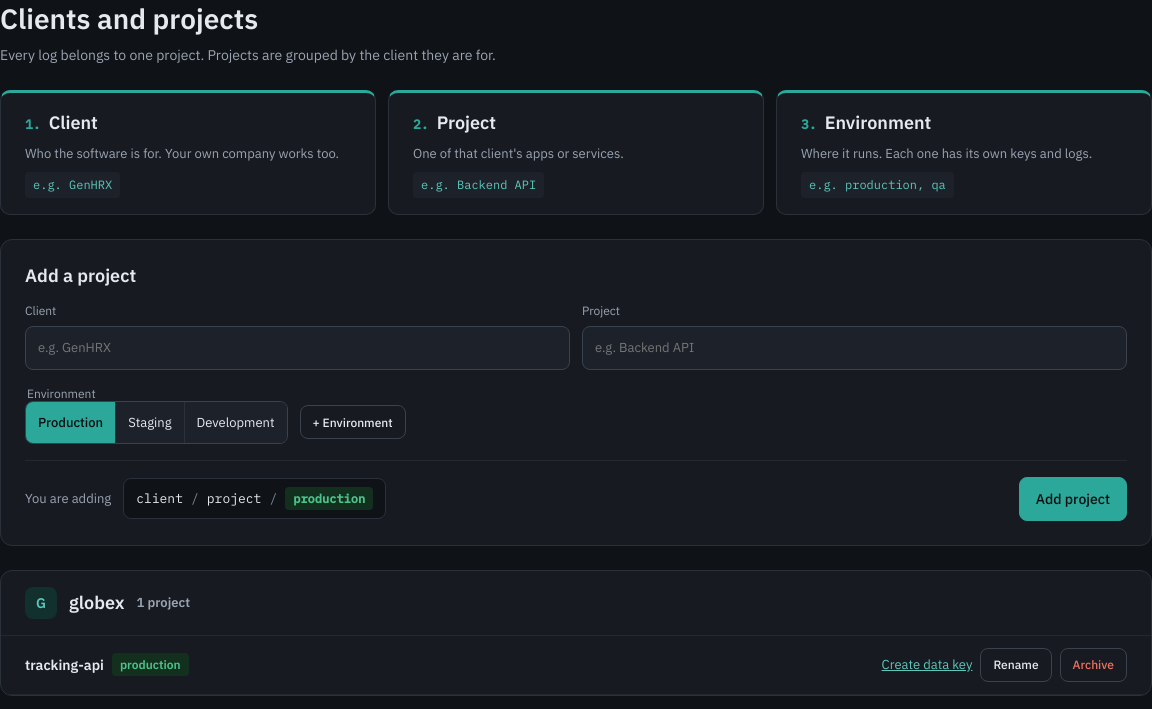
Test: Project changes › adds a new environment, warns about look-alikes and selects it
Click the button "+ Environment" at (353, 422), box [300,405,406,439]
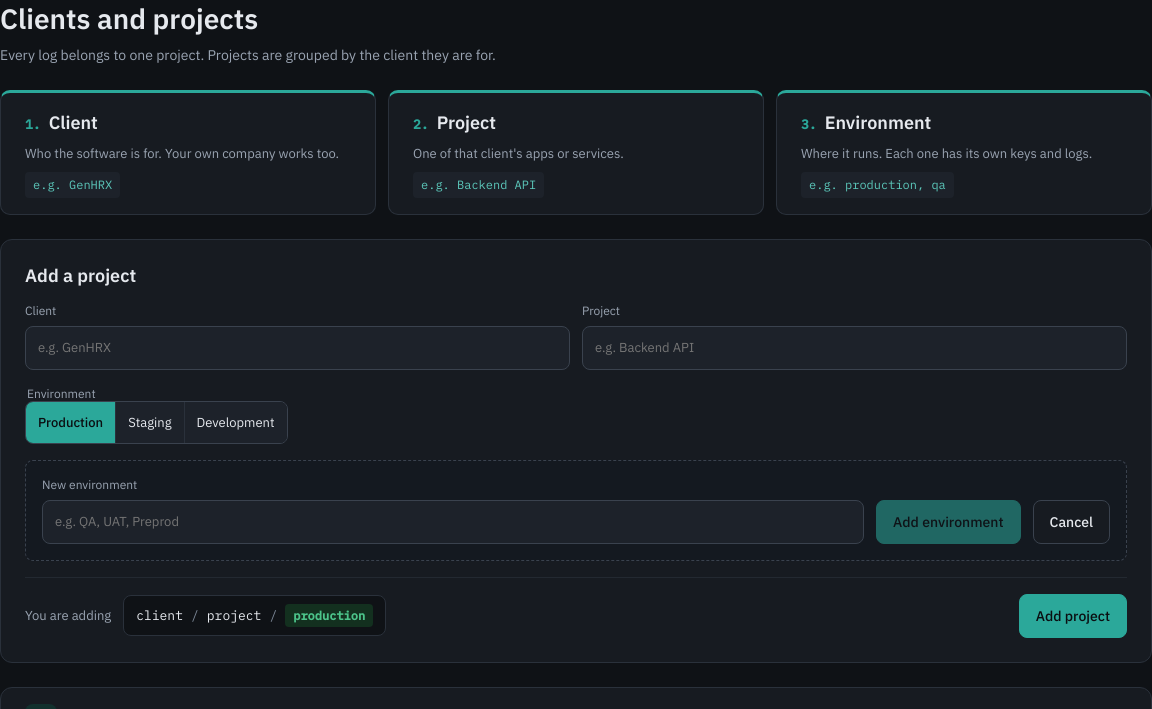
Type "Prod" into the field labelled "New environment" at (453, 522), box [42,500,864,544]
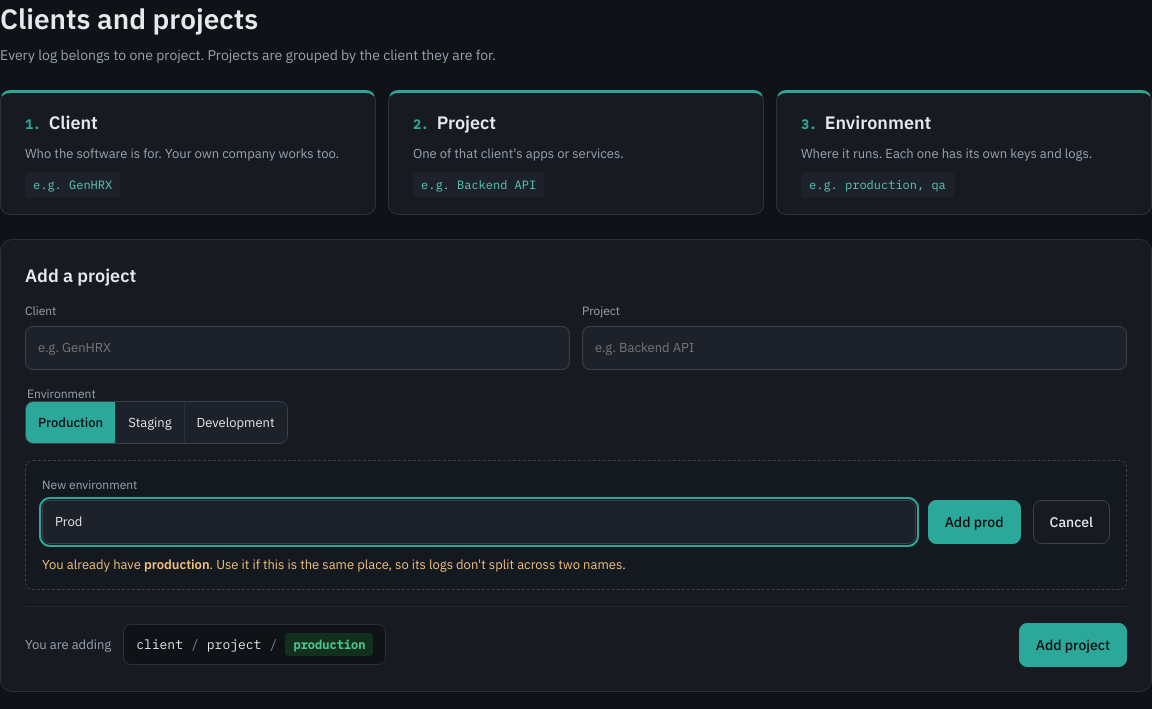
expect the text "You already have" shows "production": met, box [144,556,210,572]
Clear the field labelled "New environment" at (479, 522), box [42,500,916,544]
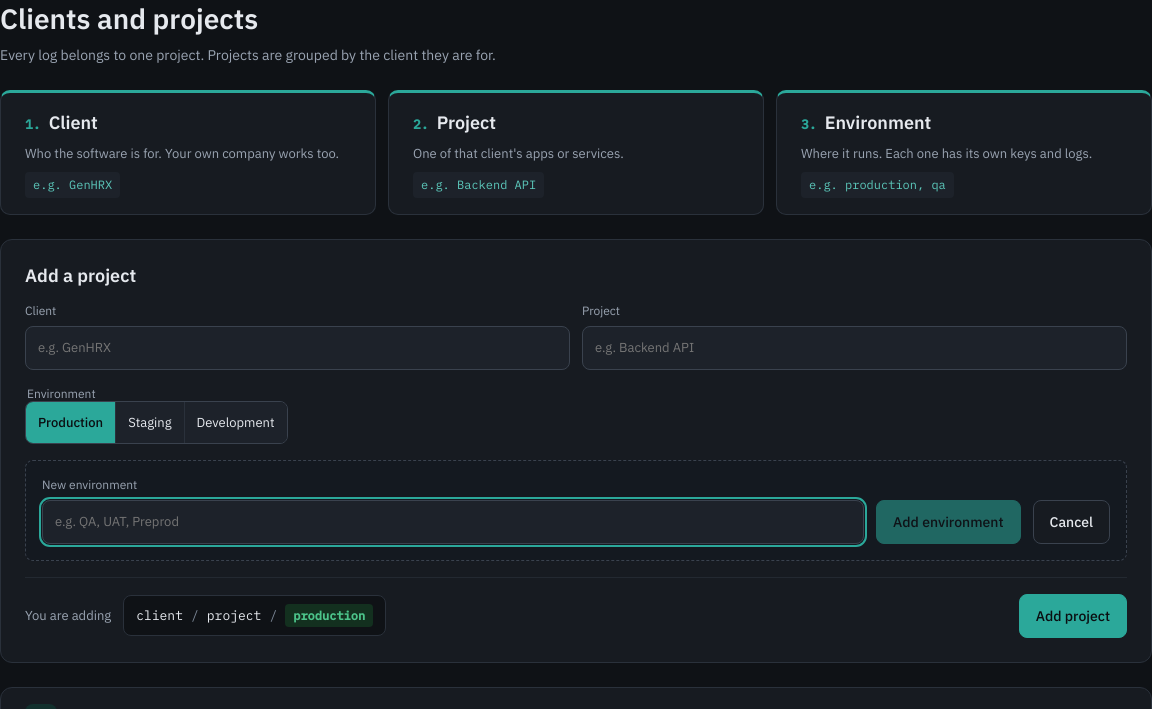
Type "QA" into the field labelled "New environment" at (453, 522), box [42,500,864,544]
Then press Enter
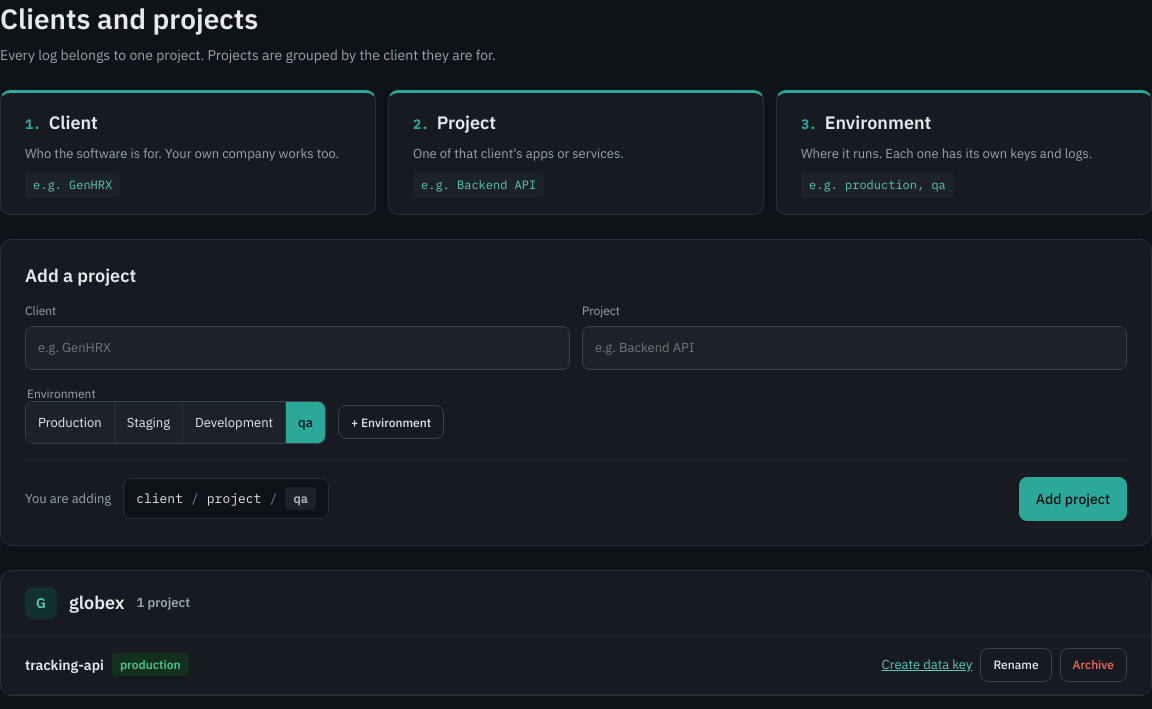
Type "Globex" into the field labelled "Client" at (298, 348), box [25,326,570,370]
Type "Tracking API" into the field labelled "Project" at (854, 348), box [582,326,1127,370]
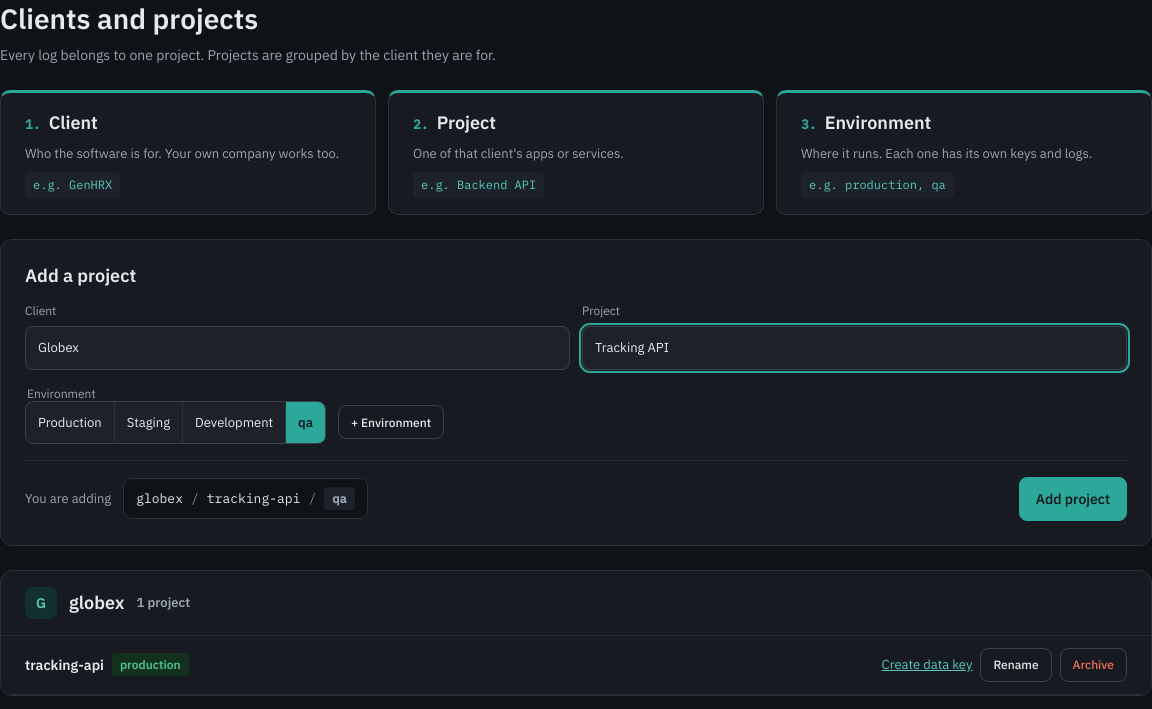
Click the button "Add project" at (1073, 498), box [1019,476,1127,520]
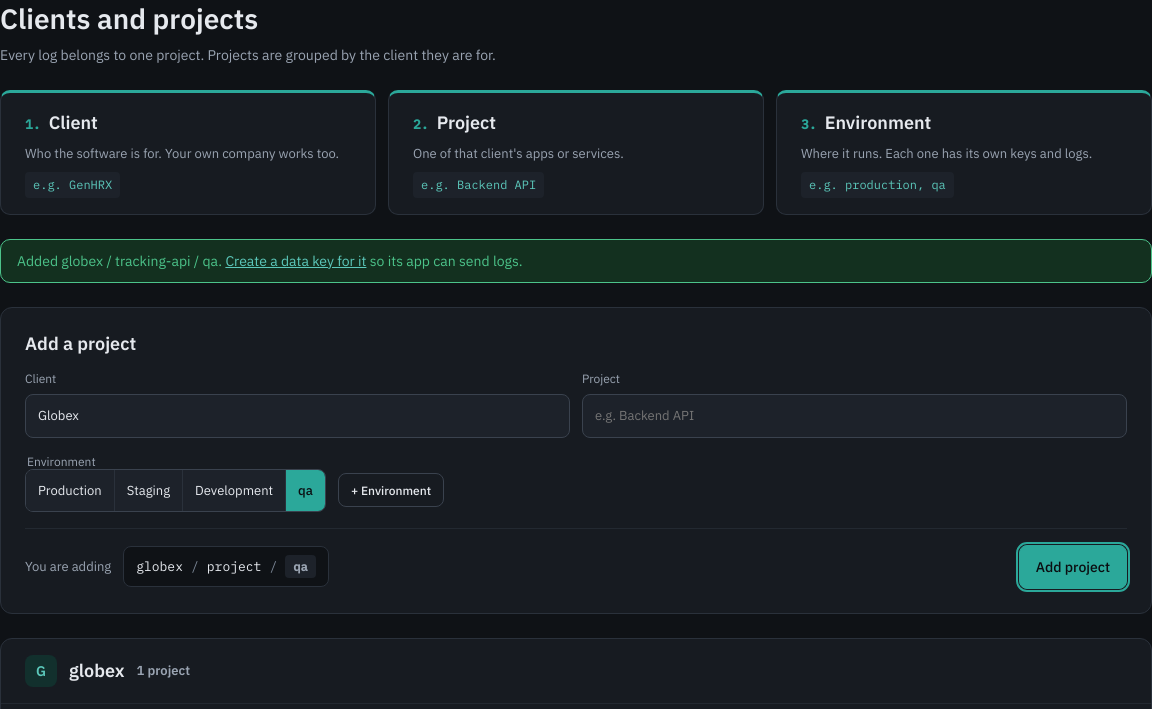
expect the radio button labelled "qa" is checked: met, box [286,470,325,510]
expect the message is shown: met, box [0,238,1151,282]
